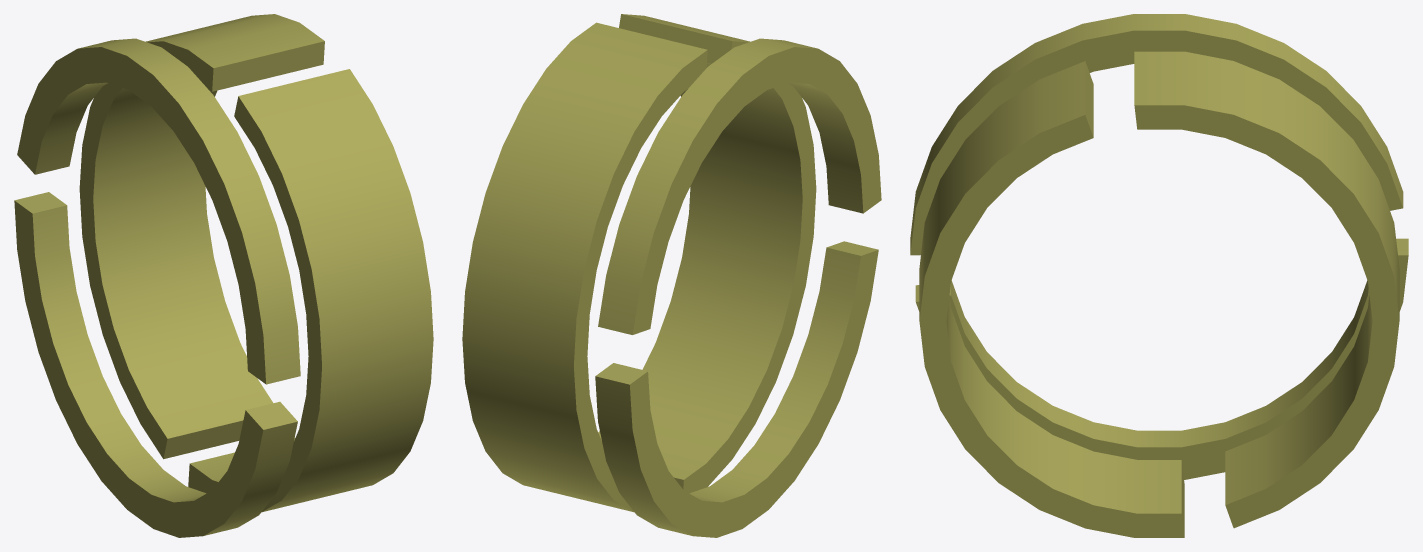
File: Engine 02.fbx
3 renders of one model, left to right at view 1: azimuth 30°, elevation 25°; view 2: azimuth 150°, elevation 25°; view 3: azimuth 270°, elevation 25°, orthographic.
Visible parts, largest first — view 1: Engine_02_2, Engine_02; view 2: Engine_02_2, Engine_02; view 3: Engine_02_2, Engine_02.
Part boxes in pixels (<box>): Engine_02_2: <box>79,14,433,512</box>; Engine_02: <box>14,38,300,537</box>; Engine_02_2: <box>462,14,816,512</box>; Engine_02: <box>595,38,881,537</box>; Engine_02_2: <box>919,51,1399,537</box>; Engine_02: <box>910,14,1408,479</box>.
Size of the model in its own units: 0.6807 by 1.72 by 1.73.
